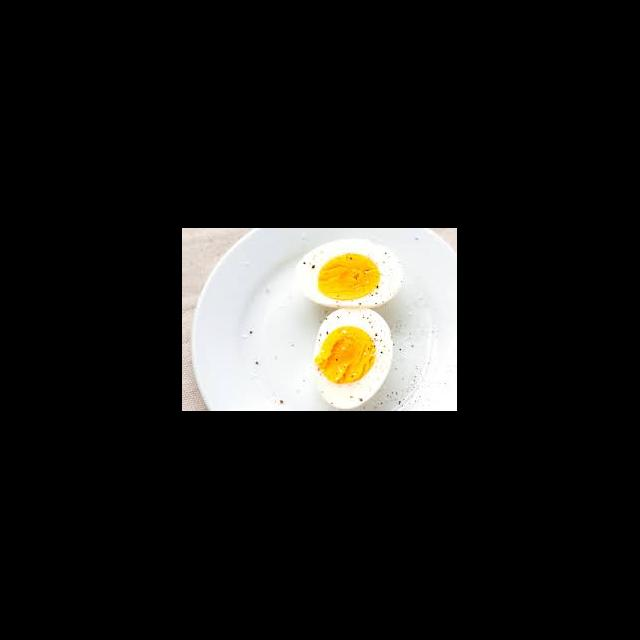food_waste: (285, 234, 422, 412)
